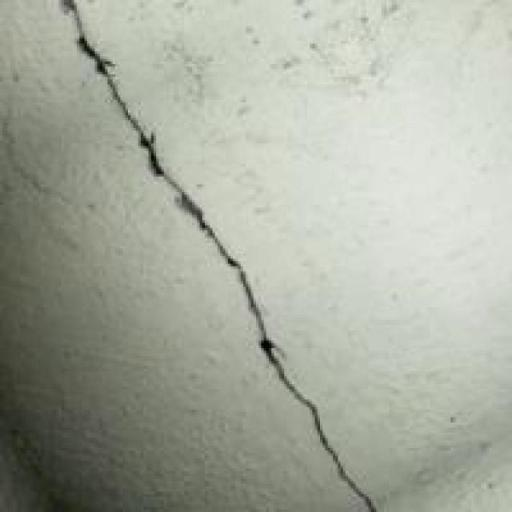minor crack: (272, 363, 381, 512)
moderate crack: (396, 409, 507, 500), (305, 40, 343, 74), (357, 490, 377, 512)
severe crack: (52, 9, 390, 503), (83, 65, 164, 171), (6, 424, 86, 508), (59, 1, 105, 62), (264, 345, 296, 387)
